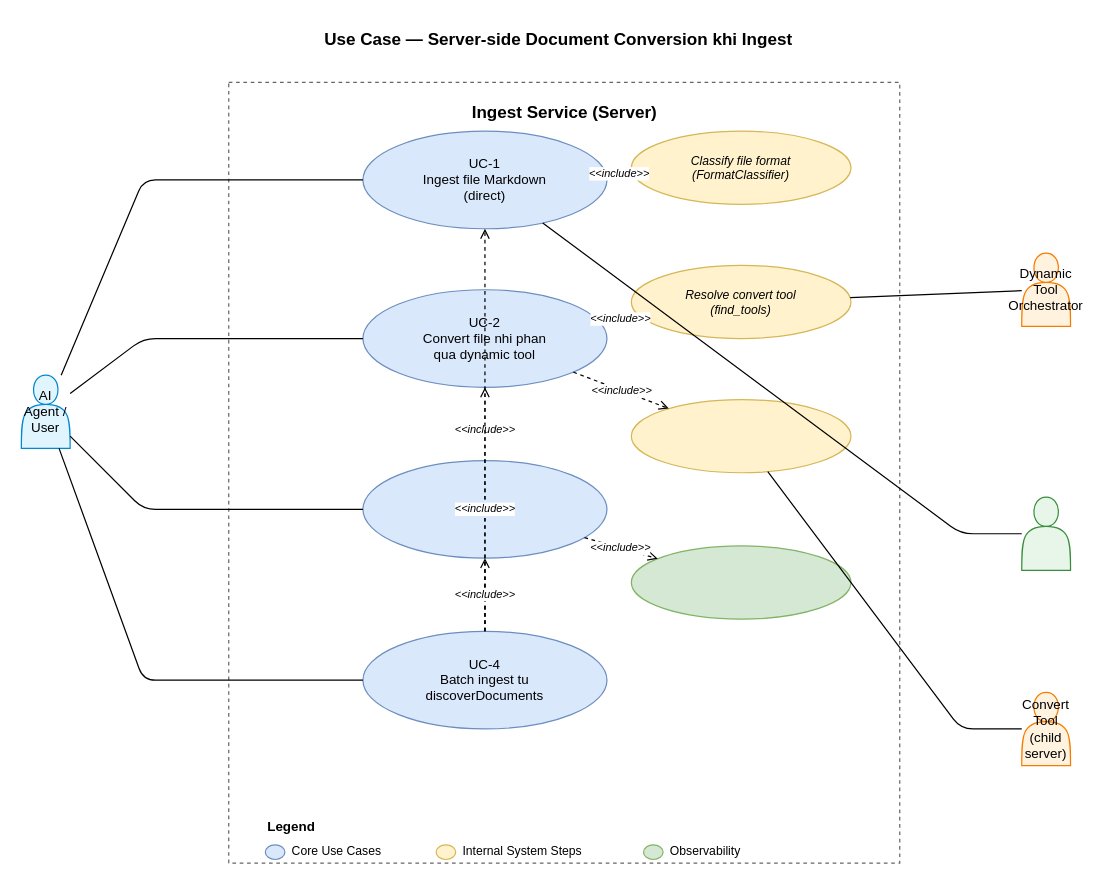
Some shapes in this 1104 by 885 pixel diagram are drawn without their labels. Each missing label, with the box of its shape:
Execute conversion (execute_dynamic_tool): (630, 398, 851, 473)
Knowledge Base: (1021, 496, 1071, 570)
Log observability (Output Channel): (630, 545, 851, 619)
UC-3 Xu ly file un-convertible (no-tool): (362, 459, 607, 558)
